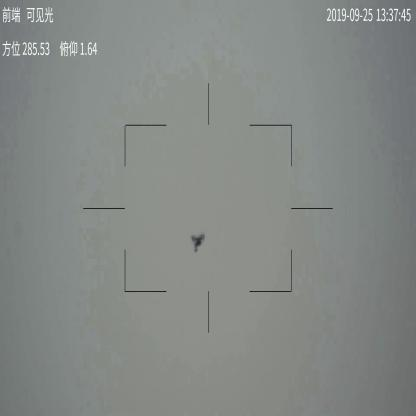uav: (188, 231, 206, 253)
